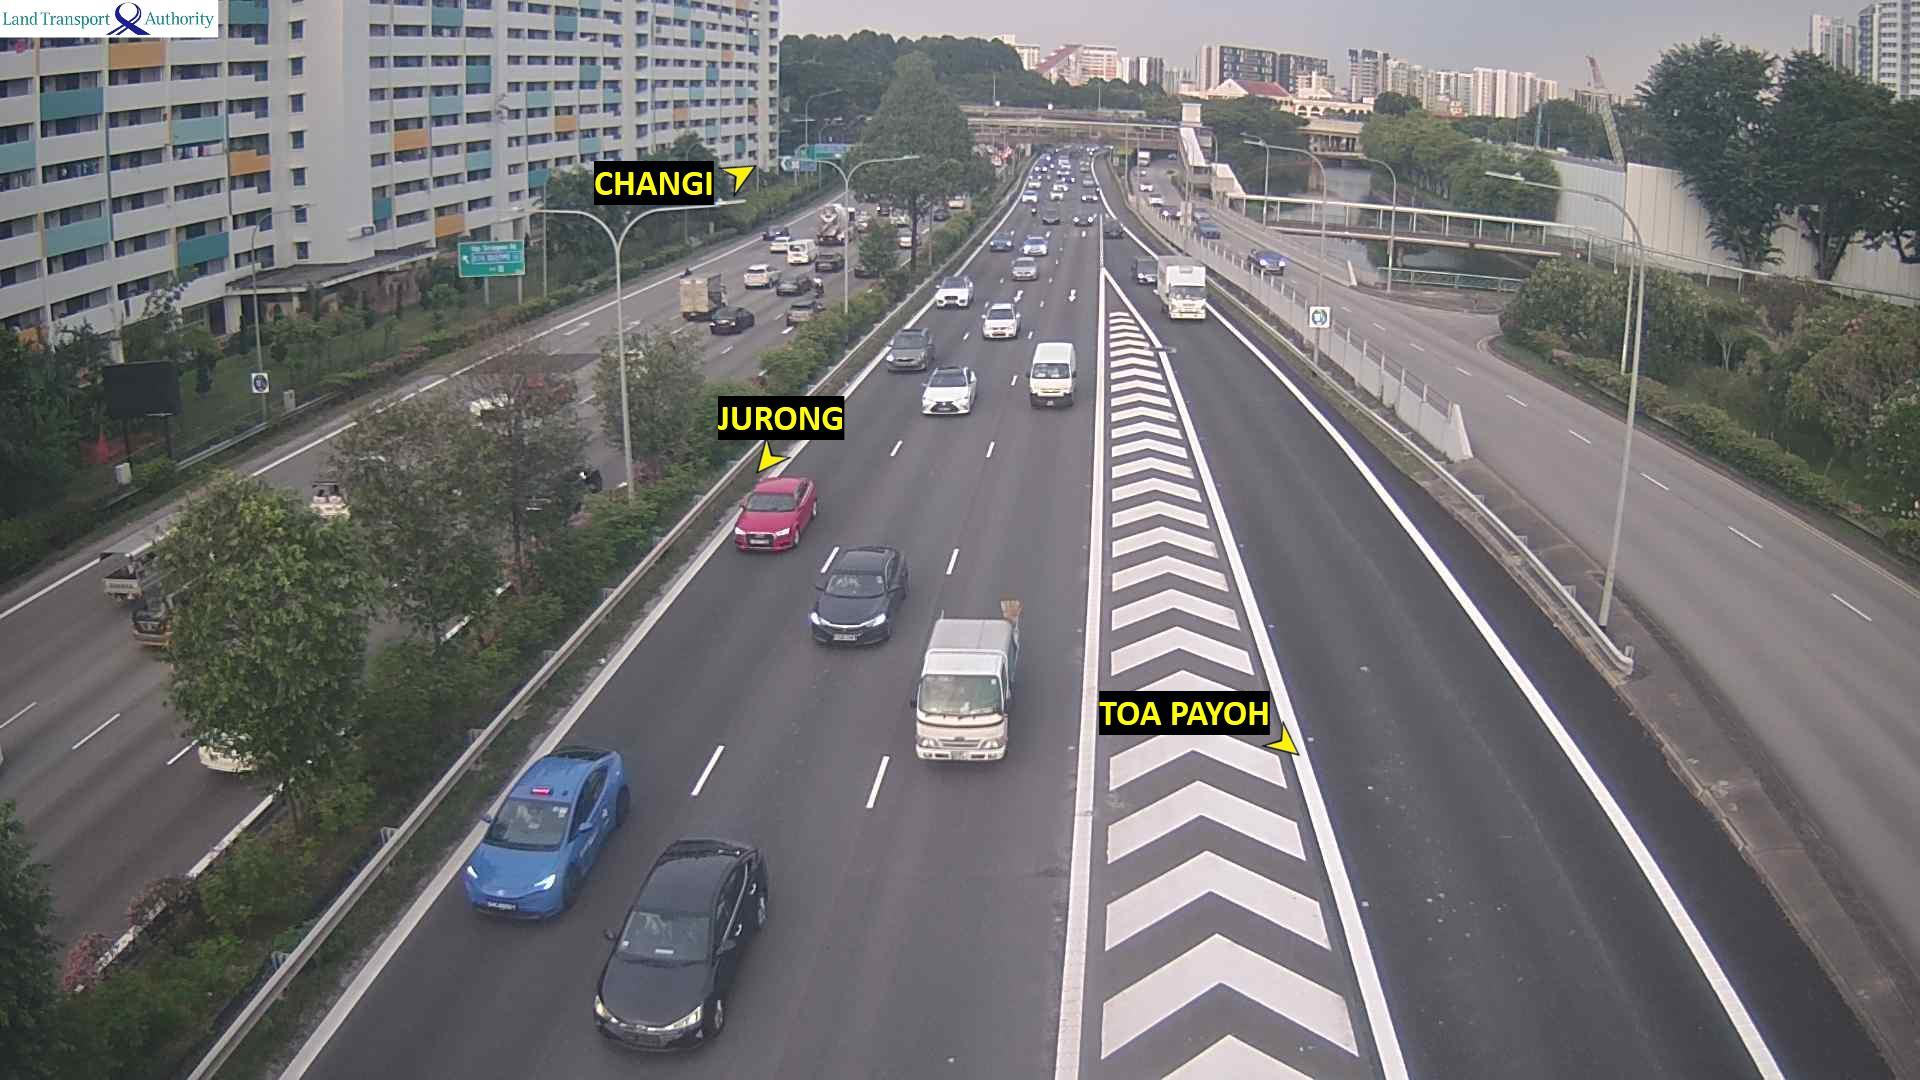incoming: (603, 909, 735, 1048), (463, 804, 593, 914), (913, 669, 1014, 762), (814, 568, 897, 653), (737, 492, 803, 551), (922, 373, 975, 418), (1027, 361, 1076, 409), (885, 336, 931, 372), (1167, 284, 1207, 322), (982, 310, 1019, 340), (934, 281, 972, 310), (1134, 255, 1159, 286), (1010, 260, 1038, 282), (1258, 255, 1286, 276), (1102, 219, 1126, 241), (989, 233, 1013, 253), (1022, 239, 1047, 257), (1040, 210, 1062, 225), (1019, 190, 1039, 204), (1073, 212, 1093, 225), (1081, 191, 1101, 203), (1050, 189, 1065, 203)
